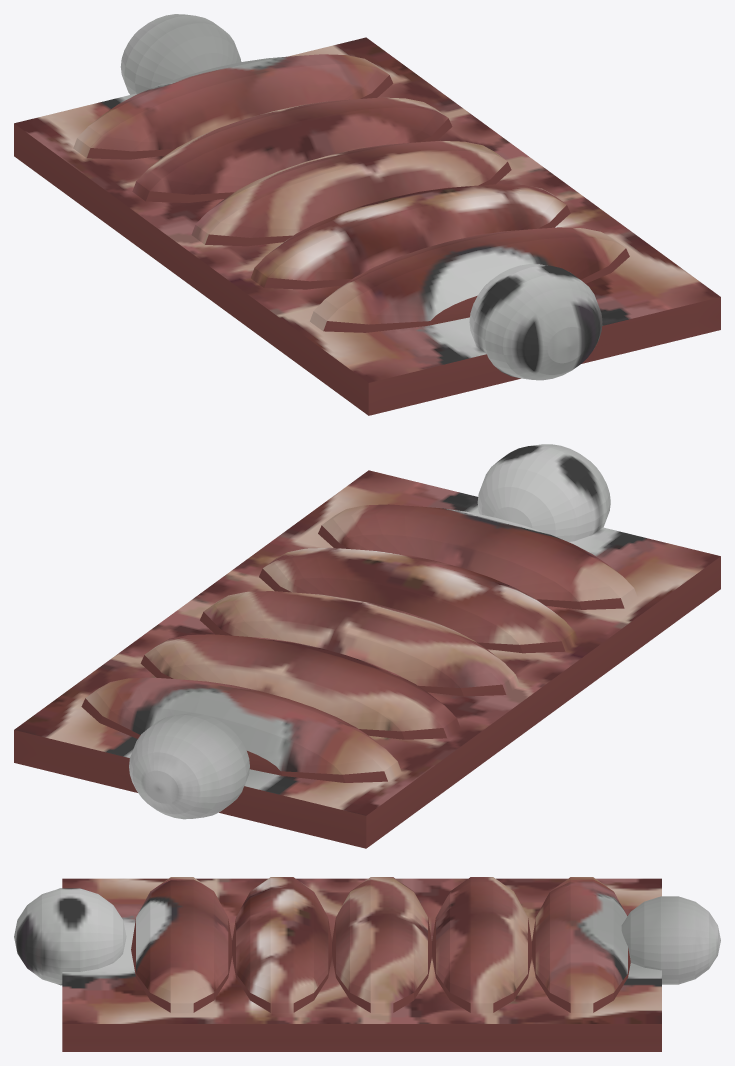
Rendered from Building_CannibalPlatter.glb.
3 views of the same model, one above another, from view 1: azimuth 30°, elevation 25°; view 2: azimuth 150°, elevation 25°; view 3: azimuth 270°, elevation 25° (orthographic). The views are drawn at different scales.
Visible parts, largest first — view 1: CannibalPlatter; view 2: CannibalPlatter; view 3: CannibalPlatter.
Part boxes in pixels (<box>): CannibalPlatter: <box>14,14,720,415</box>; CannibalPlatter: <box>14,444,720,848</box>; CannibalPlatter: <box>14,877,720,1051</box>.
Bounding box in the file's own units: 1.34 × 0.3961 × 2.76.
1 material, 1 textured.
